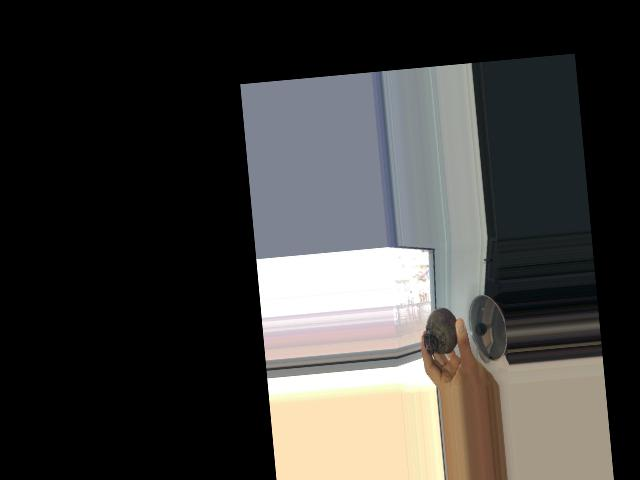beet: (421, 306, 461, 368)
